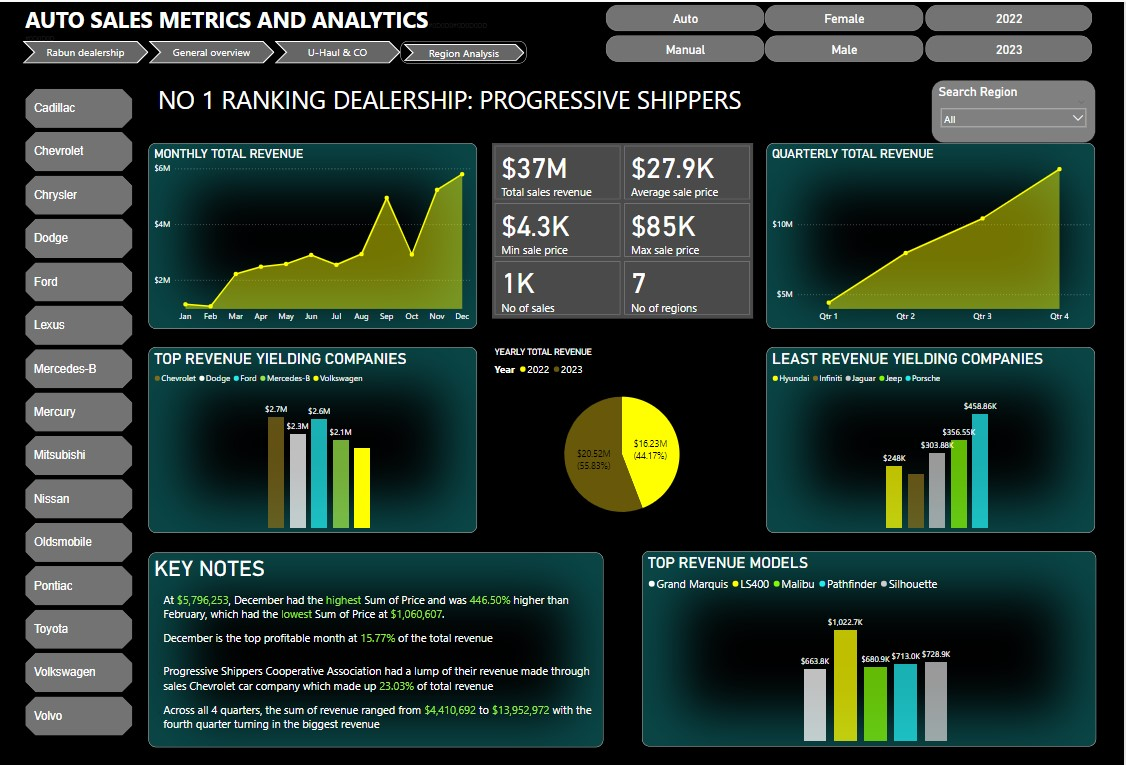

What the dashboard file says about the page in this screenshot:
{"tool":"powerbi","page":{"name":"PROGRESSIVE DEALERSHIP","canvas":[2200,1500],"ordinal":2},"visuals":[{"type":"areaChart","title":"MONTHLY TOTAL REVENUE","fields":{"Y":["Sum(CAR_SALES.Price)"],"Category":["CAR_SALES.Month"]},"box":[290.8,276.1,643.3,364.2],"z":0},{"type":"textbox","box":[44.1,0,957.6,96.9],"z":1000},{"type":"advancedSlicerVisual","fields":{"Values":["CAR_SALES.Company"]},"box":[45.4,165.5,220.6,1291.4],"z":2000},{"type":"actionButton","box":[43.9,76.8,246.7,43.9],"z":3000},{"type":"actionButton","box":[290.6,76.8,246.7,43.9],"z":4000},{"type":"actionButton","box":[537.3,76.8,246.7,43.9],"z":5000},{"type":"actionButton","box":[784.1,76.8,246.7,43.9],"z":6000},{"type":"pieChart","title":"YEARLY TOTAL REVENUE","fields":{"Y":["Sum(CAR_SALES.Price)"],"Category":["CAR_SALES.Date.Variation.Date Hierarchy.Year"]},"box":[963.5,675.6,508.2,364.2],"z":7000},{"type":"advancedSlicerVisual","fields":{"Values":["CAR_SALES.Date.Variation.Date Hierarchy.Year"]},"box":[1807.4,0,337.5,123.3],"z":8000},{"type":"advancedSlicerVisual","fields":{"Values":["CAR_SALES.Gender"]},"box":[1492.6,0,321.2,123.3],"z":9000},{"type":"advancedSlicerVisual","fields":{"Values":["CAR_SALES.Transmission"]},"box":[1181.1,0,321.2,123.3],"z":10000},{"type":"cardVisual","fields":{"Data":["Sum(CAR_SALES.Price)","Avg(CAR_SALES.Price)","Min(CAR_SALES.Price)","Max(CAR_SALES.Price)","CountNonNull(CAR_SALES.Price)","Count(CAR_SALES.Dealer_Region)"]},"box":[963.5,276.1,511.1,343.7],"z":11000},{"type":"clusteredColumnChart","title":"TOP REVENUE YIELDING COMPANIES","fields":{"Category":["CAR_SALES.Dealer_Name"],"Y":["Sum(CAR_SALES.Price)"],"Series":["CAR_SALES.Company"]},"box":[290.8,675.6,643.3,364.2],"z":12000},{"type":"areaChart","title":"QUARTERLY TOTAL REVENUE","fields":{"Y":["Sum(CAR_SALES.Price)"],"Category":["CAR_SALES.Date.Variation.Date Hierarchy.Quarter"]},"box":[1501,276.1,643.3,364.2],"z":13000},{"type":"clusteredColumnChart","title":"LEAST REVENUE YIELDING COMPANIES","fields":{"Category":["CAR_SALES.Dealer_Name"],"Y":["Sum(CAR_SALES.Price)"],"Series":["CAR_SALES.Company"]},"box":[1501,675.6,643.3,364.2],"z":14000},{"type":"textbox","box":[292,152.5,1233,97.3],"z":15000},{"type":"textbox","title":"KEY NOTES","box":[290.6,1078.1,890.6,381.2],"z":16000},{"type":"clusteredColumnChart","title":"TOP REVENUE  MODELS","fields":{"Category":["CAR_SALES.Dealer_Name"],"Y":["Sum(CAR_SALES.Price)"],"Series":["CAR_SALES.Model"]},"box":[1255.8,1074,889.1,382.9],"z":17000},{"type":"slicer","title":"Search Region","fields":{"Values":["CAR_SALES.Dealer_Region"]},"box":[1823.6,152.5,321.2,123.3],"z":18000}]}

Visuals, with their boxes in screenshot pixels (x1, y1, x2, y2), scaled from the page's 2200x1500 canvas onto the 1126x765 screenshot:
"MONTHLY TOTAL REVENUE" areaChart: [149, 141, 478, 327]
textbox: [23, 0, 513, 49]
advancedSlicerVisual - CAR_SALES.Company: [23, 84, 136, 743]
actionButton: [22, 39, 149, 62]
actionButton: [149, 39, 275, 62]
actionButton: [275, 39, 401, 62]
actionButton: [401, 39, 528, 62]
"YEARLY TOTAL REVENUE" pieChart: [493, 345, 753, 530]
advancedSlicerVisual - CAR_SALES.Date.Variation.Date Hierarchy.Year: [925, 0, 1098, 63]
advancedSlicerVisual - CAR_SALES.Gender: [764, 0, 928, 63]
advancedSlicerVisual - CAR_SALES.Transmission: [605, 0, 769, 63]
cardVisual - Sum(CAR_SALES.Price) x Avg(CAR_SALES.Price): [493, 141, 755, 316]
"TOP REVENUE YIELDING COMPANIES" clusteredColumnChart: [149, 345, 478, 530]
"QUARTERLY TOTAL REVENUE" areaChart: [768, 141, 1097, 327]
"LEAST REVENUE YIELDING COMPANIES" clusteredColumnChart: [768, 345, 1097, 530]
textbox: [149, 78, 781, 127]
"KEY NOTES" textbox: [149, 550, 605, 744]
"TOP REVENUE  MODELS" clusteredColumnChart: [643, 548, 1098, 743]
"Search Region" slicer: [933, 78, 1098, 141]
